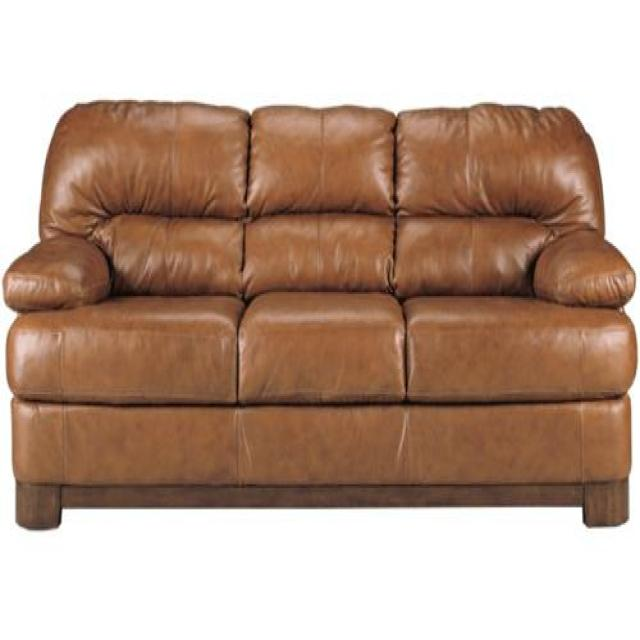sofa: (1, 96, 638, 531)
